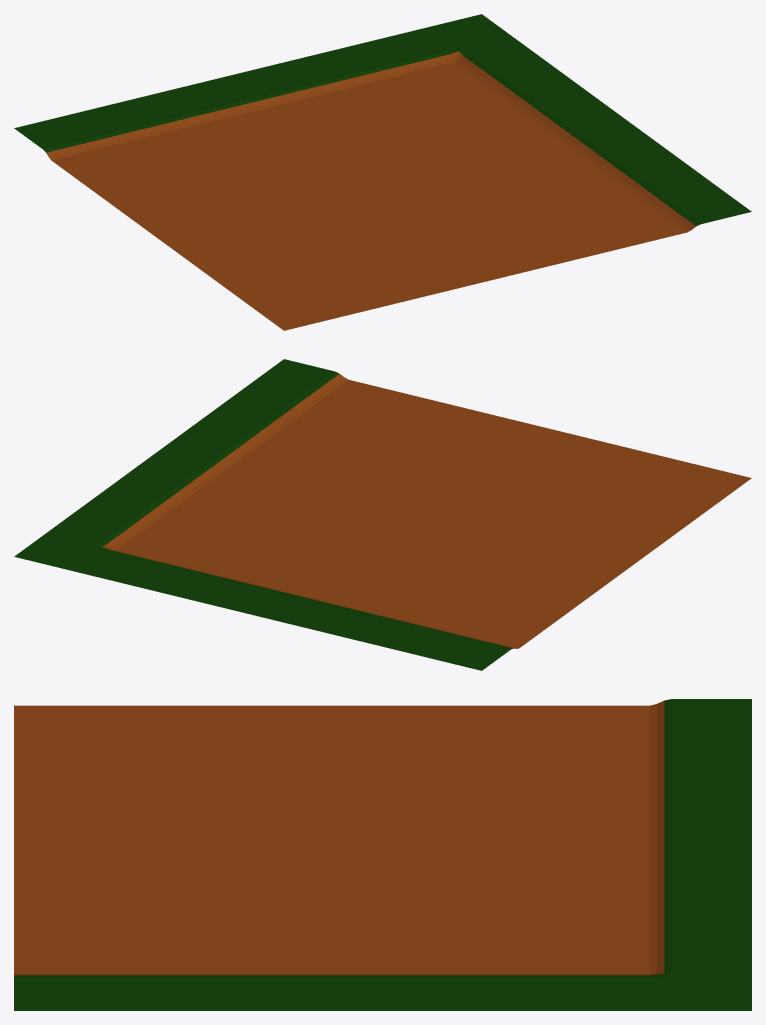
File: Terrain_Part_Plane_19.fbx
3 renders of one model, top to bottom at view 1: azimuth 30°, elevation 25°; view 2: azimuth 150°, elevation 25°; view 3: azimuth 270°, elevation 25°, orthographic. The views are drawn at different scales.
Parts seen in each view (by area): view 1: Terrain_Part_Plane_19; view 2: Terrain_Part_Plane_19; view 3: Terrain_Part_Plane_19.
Part boxes in pixels (bbox=[...]): Terrain_Part_Plane_19: bbox=[14, 14, 751, 330]; Terrain_Part_Plane_19: bbox=[14, 359, 751, 670]; Terrain_Part_Plane_19: bbox=[14, 699, 751, 1010].
Size of the model in its own units: 2000 by 20 by 2000.
